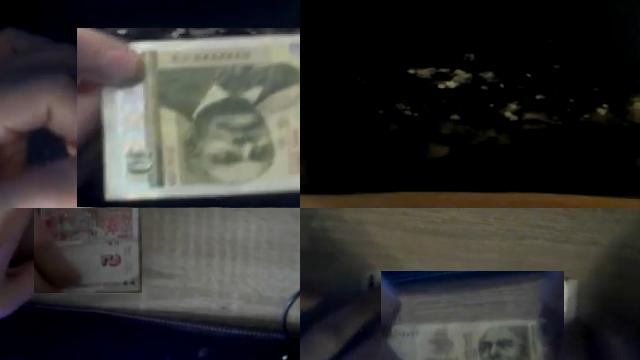10leva: (77, 32, 300, 207), (389, 271, 543, 360)
5leva: (38, 208, 142, 293)
